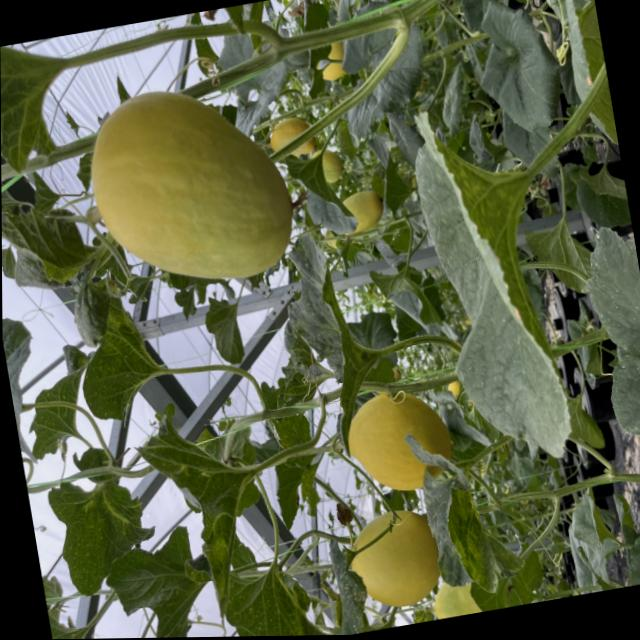CMV: (73, 323, 163, 433)
bacterial wilt: (332, 495, 353, 533)
downy mildew: (401, 94, 596, 491), (139, 403, 267, 620), (283, 226, 378, 453), (45, 463, 167, 605), (1, 199, 111, 355), (412, 435, 512, 604), (0, 34, 94, 189), (224, 551, 326, 637), (316, 537, 381, 635)
healthy: (94, 518, 226, 639), (11, 349, 105, 469), (620, 518, 640, 586)
powdery mildew: (579, 224, 640, 515)
